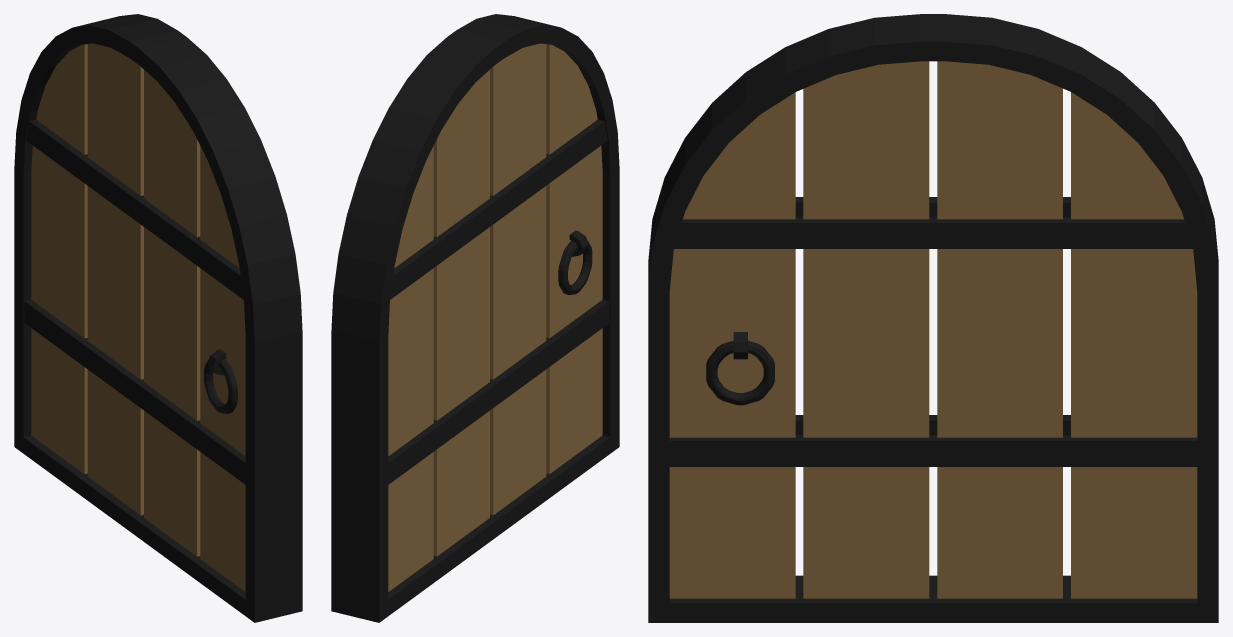
File: Puerta_Madera.fbx
3 views of the same model, side by side, from view 1: azimuth 30°, elevation 25°; view 2: azimuth 150°, elevation 25°; view 3: azimuth 270°, elevation 25° (orthographic). The views are drawn at different scales.
Visible parts, largest first — view 1: Puerta_Madera; view 2: Puerta_Madera; view 3: Puerta_Madera.
Part boxes in pixels (x1,y1,x2,y2): Puerta_Madera: (14, 14, 302, 622); Puerta_Madera: (331, 14, 619, 622); Puerta_Madera: (648, 14, 1218, 622).
Size of the model in its own units: 0.276 by 2.25 by 2.
